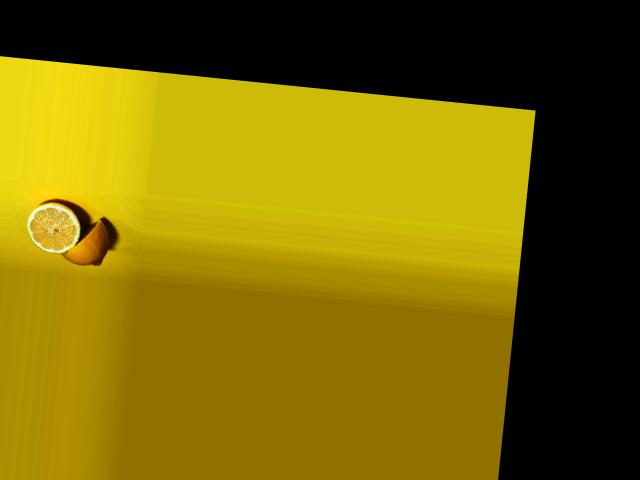lemon: (59, 208, 114, 269)
